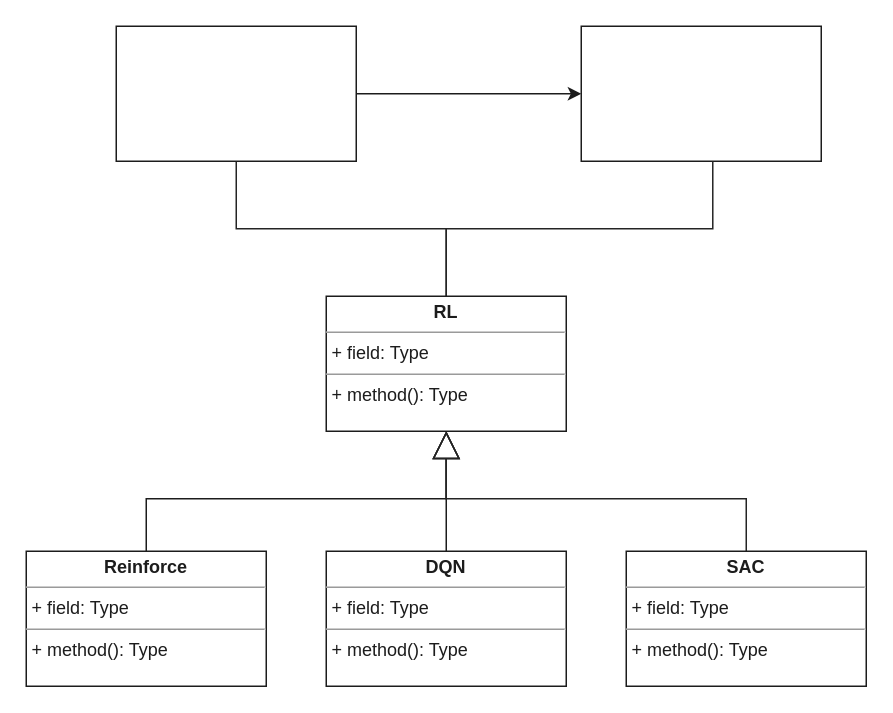
Image size: 893x713. Some labels were removed from this diagram. Here are the shapes that lost their labels. From the top down, the box of each, then its label:
(115, 25, 356, 161): Agent + field: Type + method(): Type
(580, 25, 821, 161): Memory + field: Type + method(): Type
